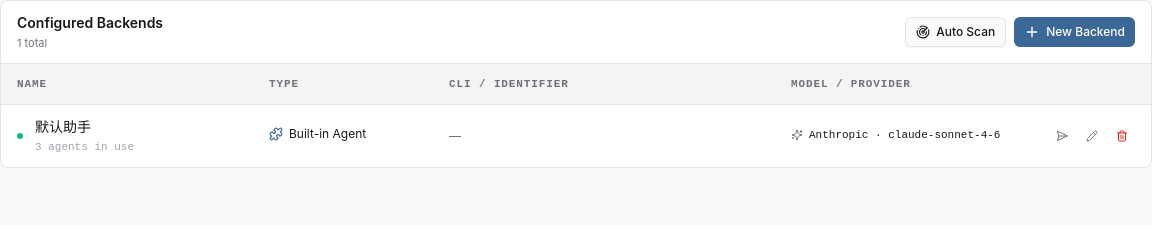
Test: AgentBackendsPanel › clicking 测试连接 on a row shows success flash with latency + reply
Expected: the text "默认助手" is shown, [35,116,91,136]
Click the button named "Test connection": (1062, 136) [1049,122,1075,148]
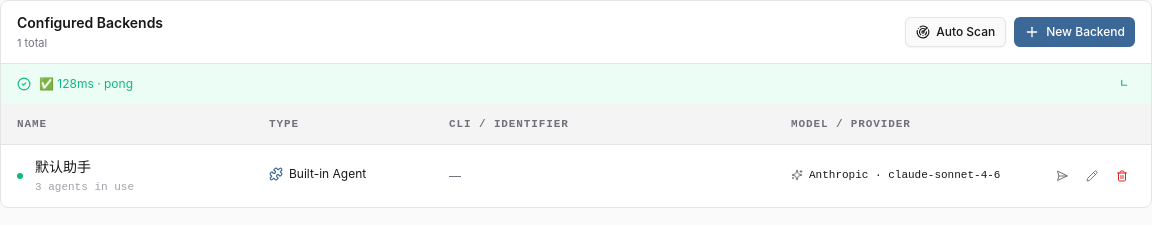
Expected: the text "✅ 128ms · pong" is shown, [39,76,133,91]
